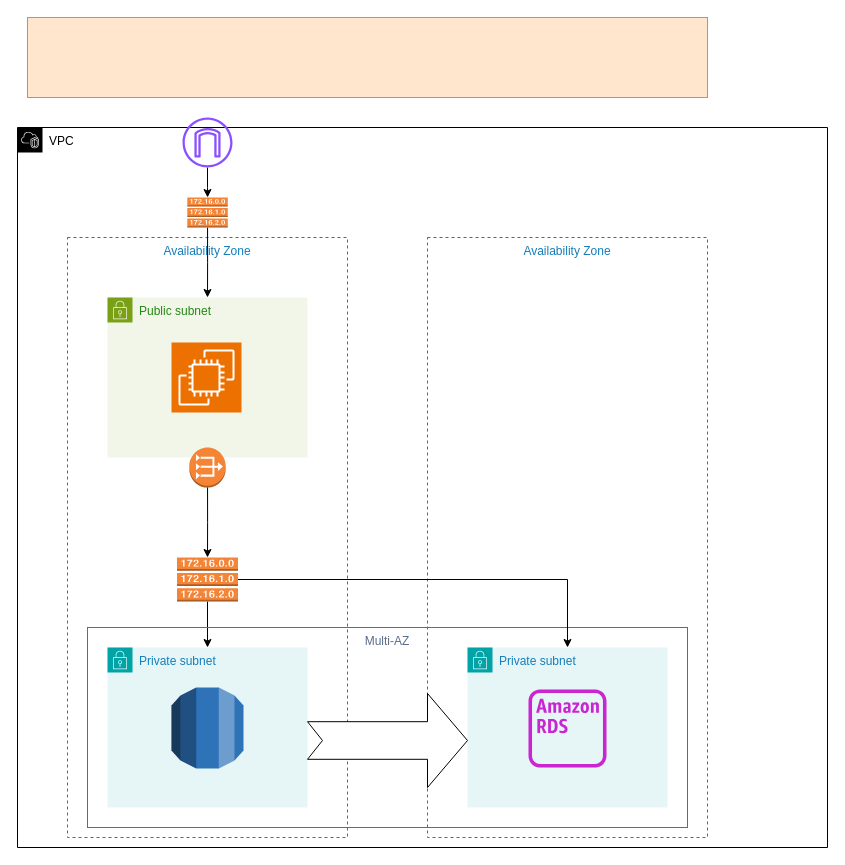
Image size: 845x865. Some labels were removed from this diagram. Here are the shapes that lost their labels. From the top down, the centre of each, then its label:
At [367,57]: "Basic Infrastructure for Flask App".
At [387,740]: "Sync Replication".
